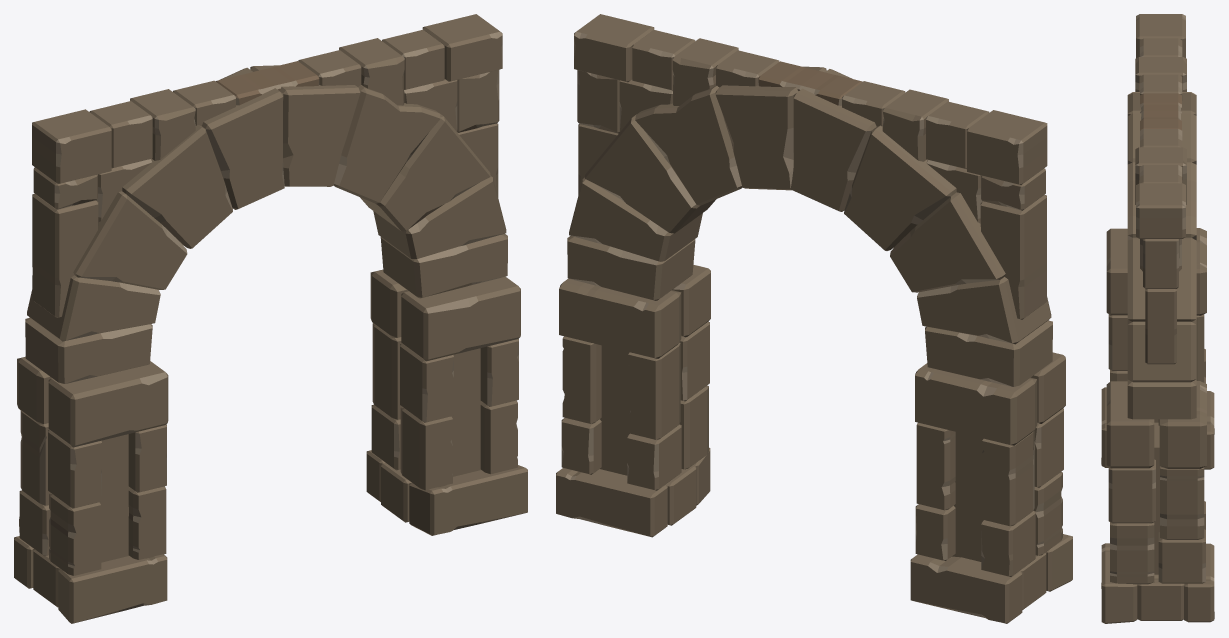
Rendered from arch.glb.
3 renders of one model, left to right at view 1: azimuth 30°, elevation 25°; view 2: azimuth 150°, elevation 25°; view 3: azimuth 270°, elevation 25°, orthographic. The views are drawn at different scales.
Visible parts, largest first — view 1: Arch; view 2: Arch; view 3: Arch.
Part boxes in pixels (x1=…): Arch: x1=14, y1=14, x2=527, y2=623; Arch: x1=556, y1=14, x2=1072, y2=623; Arch: x1=1101, y1=14, x2=1214, y2=623.
Bounding box in the file's own units: 4.1 × 4.01 × 0.9926.
